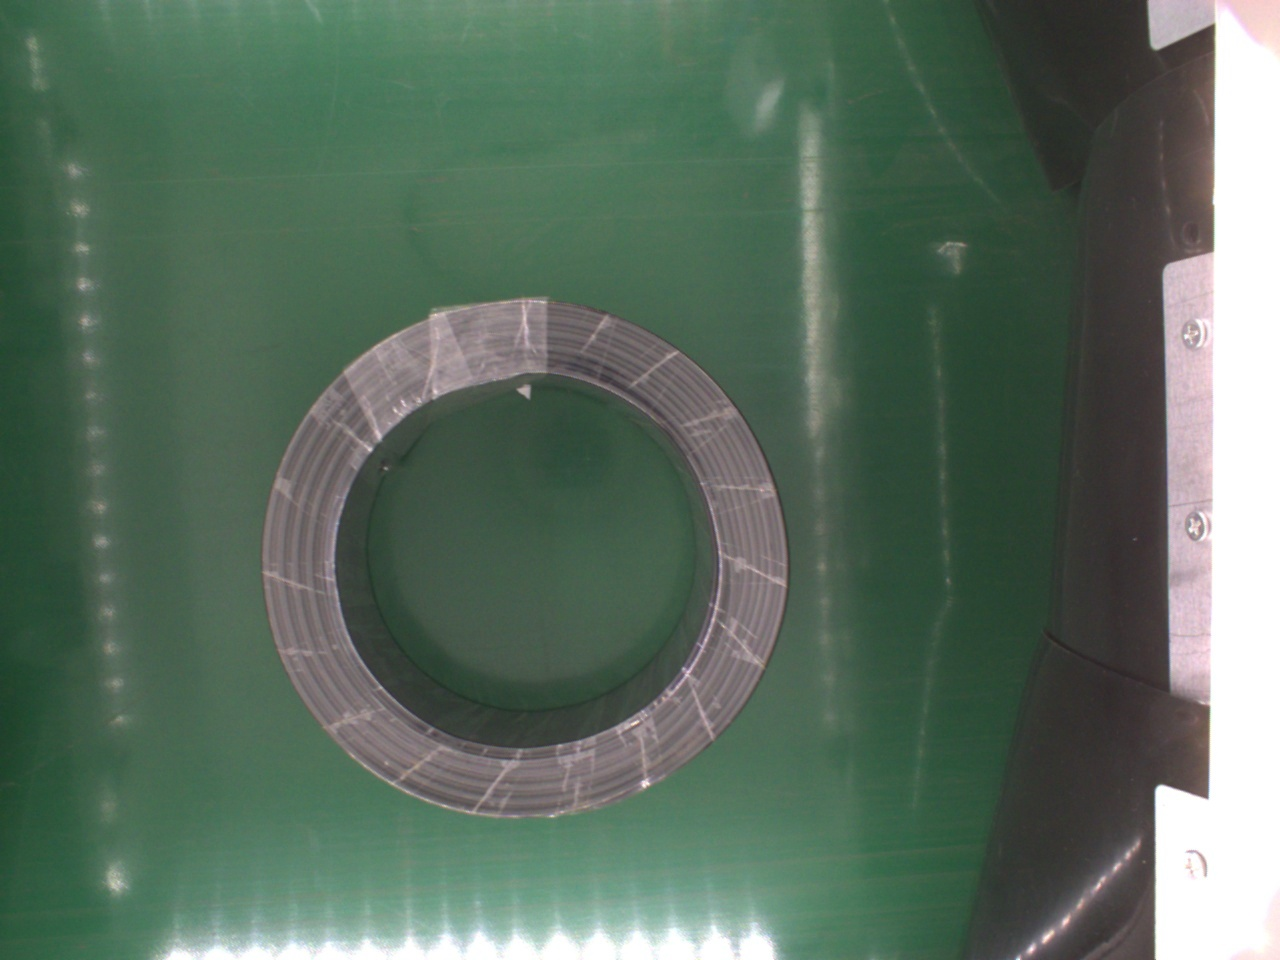black: (256, 295, 794, 823)
